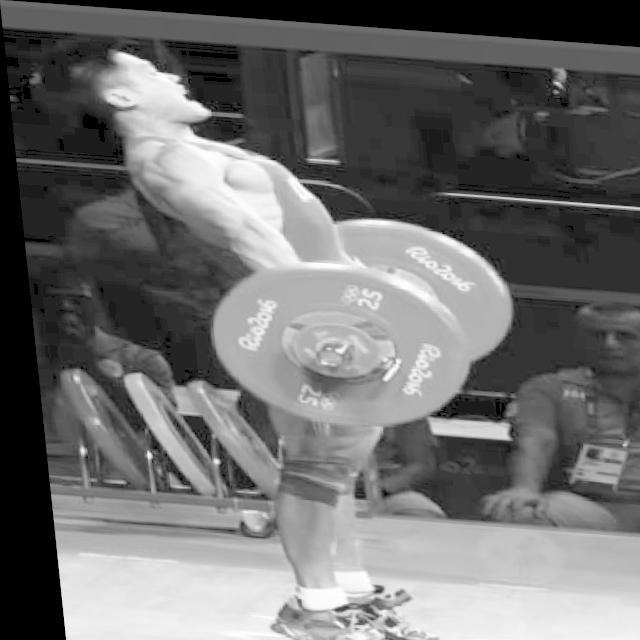barbell: (194, 245, 471, 433)
